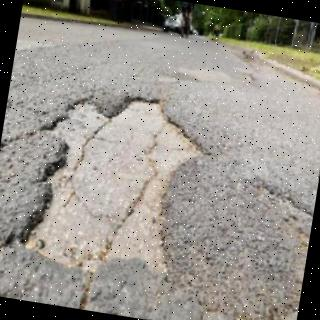pothole: (0, 98, 209, 271)
